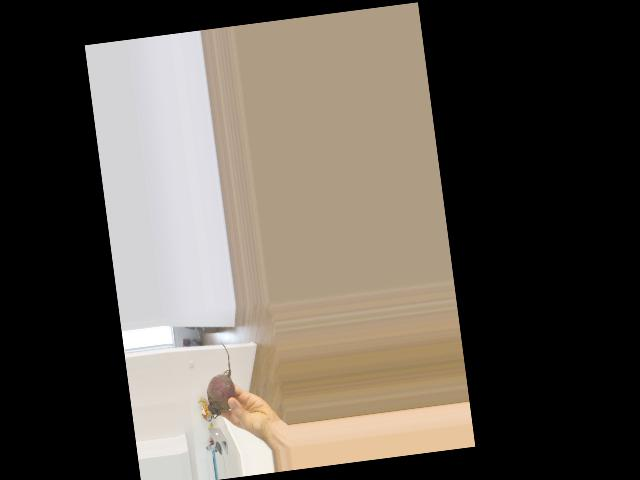beet: (200, 342, 238, 418)
